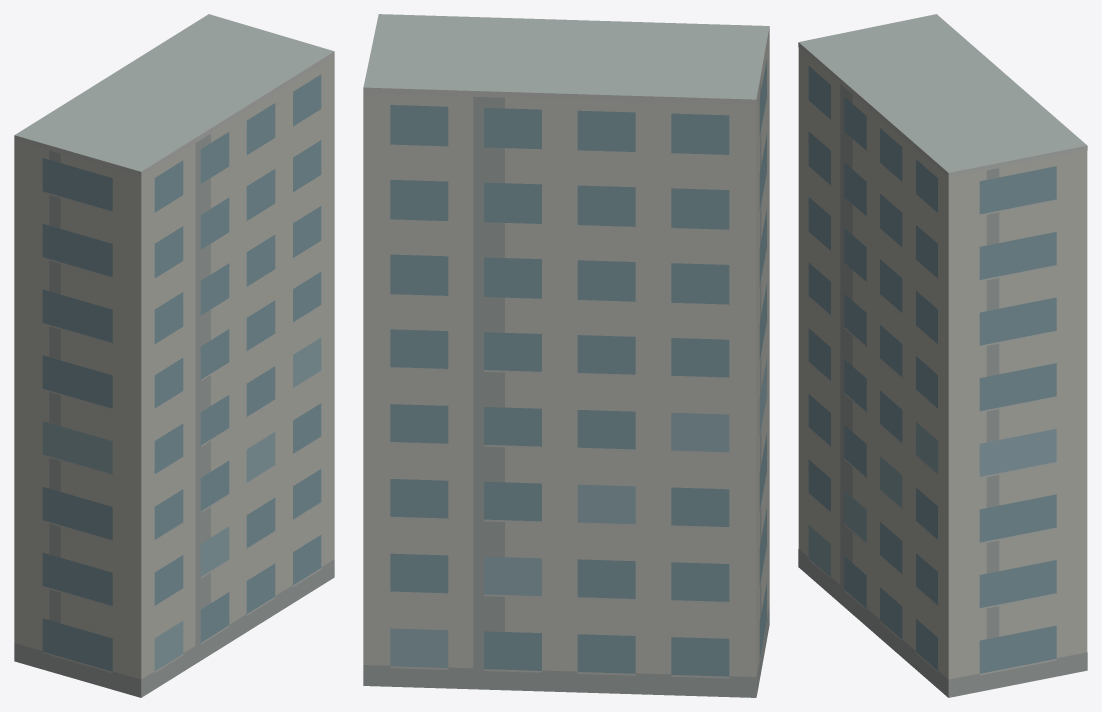
Rendered from survey-upis-32741964.glb.
3 renders of one model, left to right at view 1: azimuth 30°, elevation 25°; view 2: azimuth 150°, elevation 25°; view 3: azimuth 270°, elevation 25°, orthographic. The views are drawn at different scales.
Visible parts, largest first — view 1: survey-upis-32741964.tmp; view 2: survey-upis-32741964.tmp; view 3: survey-upis-32741964.tmp.
Part boxes in pixels (x1,y1,x2,y2): survey-upis-32741964.tmp: (14, 14, 334, 697); survey-upis-32741964.tmp: (363, 14, 769, 697); survey-upis-32741964.tmp: (798, 14, 1087, 697).
Size of the model in its own units: 16.17 by 24.9 by 12.43.
